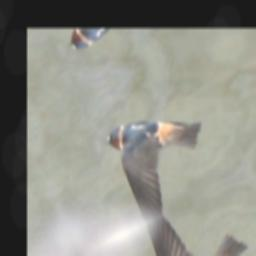Swallow: (100, 88, 226, 227)
